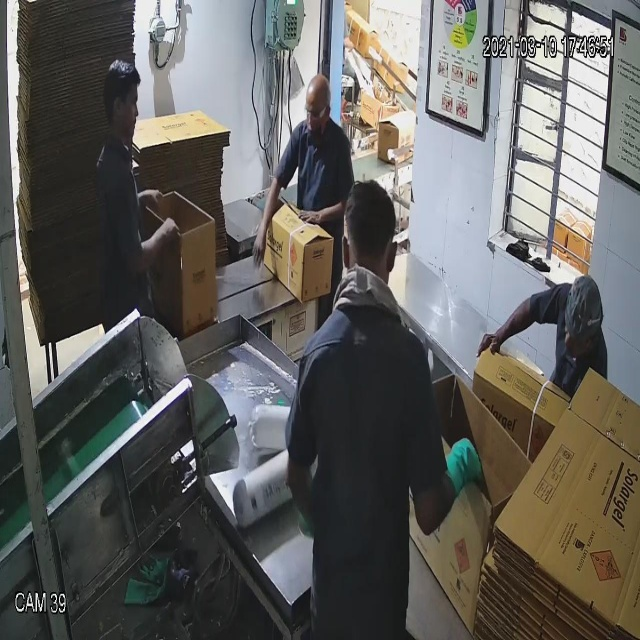Guantes: (438, 414, 487, 515)
Sin_guantes: (476, 275, 560, 381), (121, 207, 185, 285), (247, 161, 284, 281), (289, 193, 352, 235)
